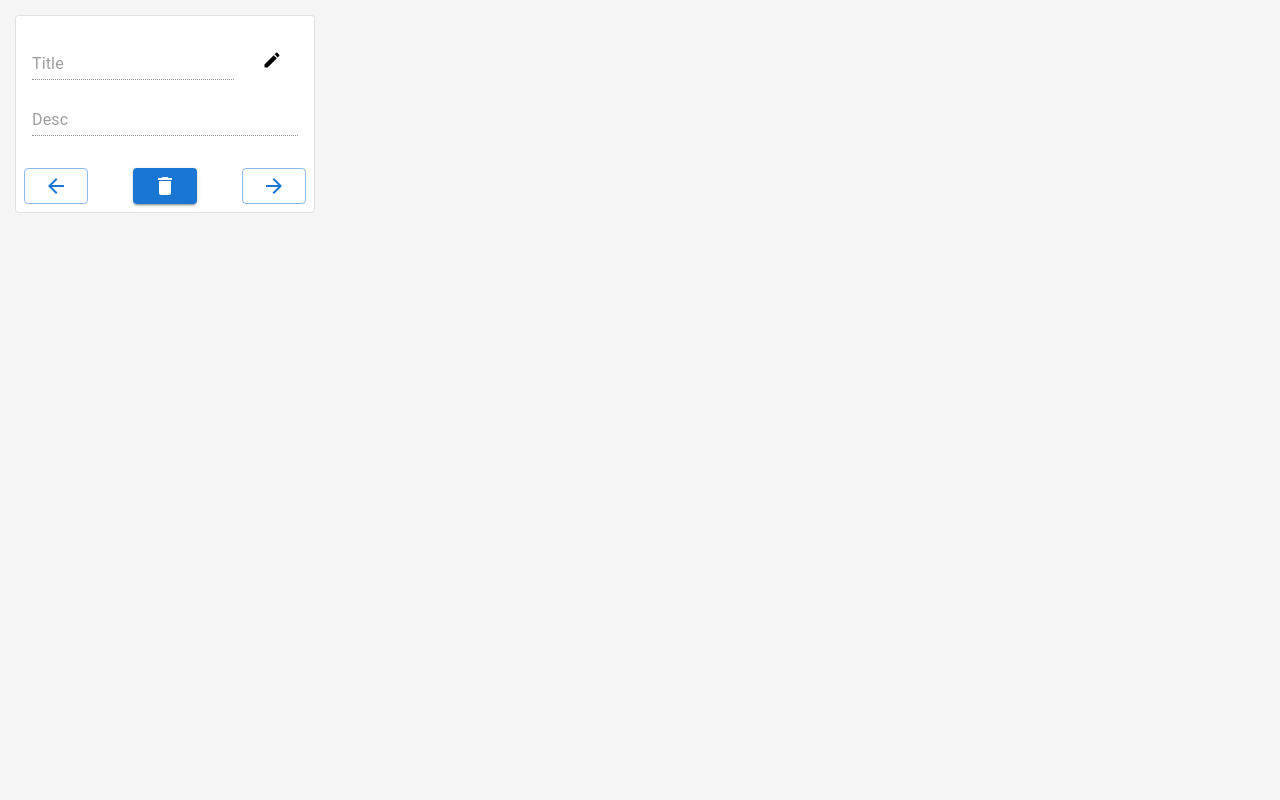
it: Card component › should render modal when click on delete button
Click the button with test id "test-delete-button": (165, 186) top-left (133, 168), bottom-right (197, 204)
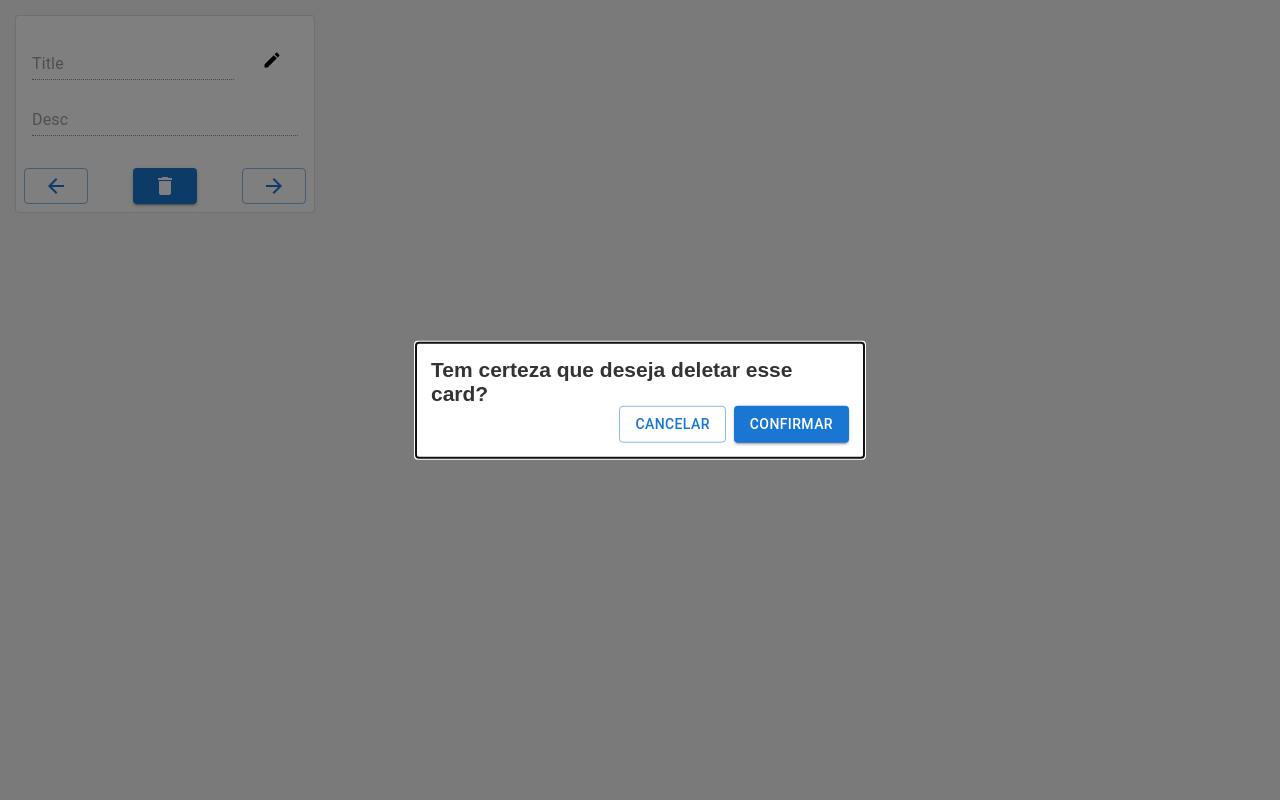
Expected: the heading "Tem certeza que deseja deletar esse card?" is shown, top-left (431, 358), bottom-right (849, 406)
Expected: the button "Cancelar" is shown, top-left (619, 406), bottom-right (726, 442)
Expected: the button "Confirmar" is shown, top-left (734, 406), bottom-right (849, 442)
